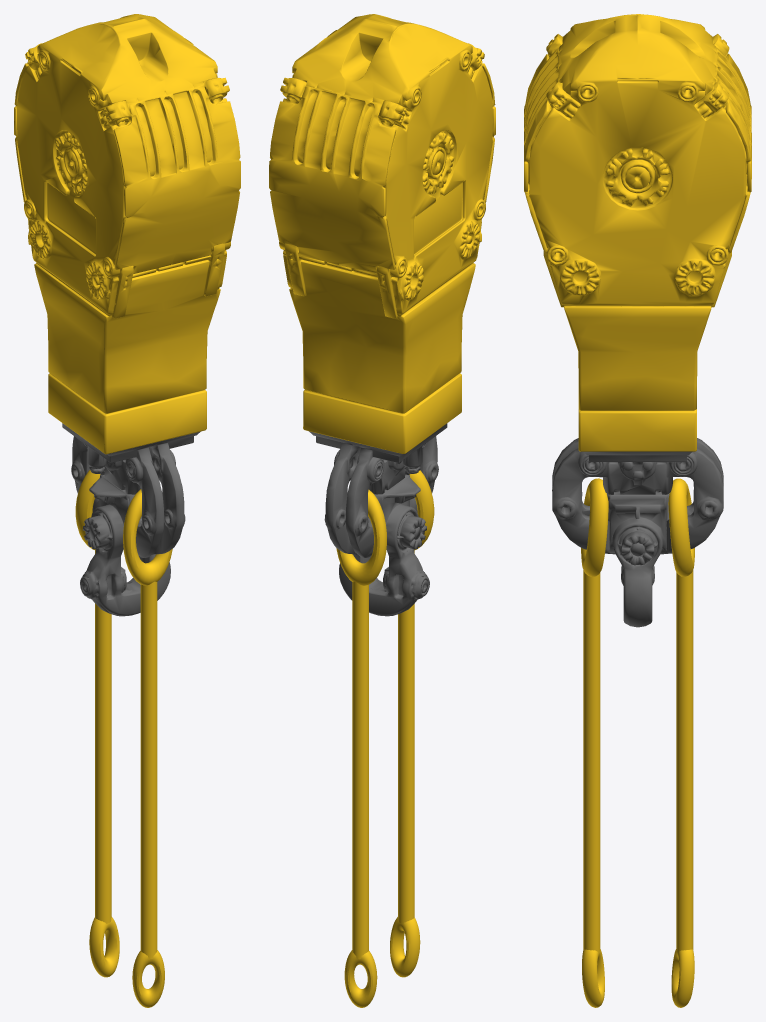
The model's file is Catarina_Links.fbx.
3 renders of one model, left to right at view 1: azimuth 30°, elevation 25°; view 2: azimuth 150°, elevation 25°; view 3: azimuth 270°, elevation 25°, orthographic.
Parts seen in each view (by area): view 1: Corpo_Catarina, Olhais_Catarina, Link_Direito, Link_Esquerdo; view 2: Corpo_Catarina, Olhais_Catarina, Link_Esquerdo, Link_Direito; view 3: Corpo_Catarina, Olhais_Catarina, Link_Direito, Link_Esquerdo.
Part boxes in pixels (<box>): Corpo_Catarina: <box>14,14,240,454</box>; Olhais_Catarina: <box>62,423,200,616</box>; Link_Direito: <box>123,489,172,1007</box>; Link_Esquerdo: <box>75,470,119,977</box>; Corpo_Catarina: <box>269,14,495,453</box>; Olhais_Catarina: <box>309,423,447,616</box>; Link_Esquerdo: <box>336,489,386,1007</box>; Link_Direito: <box>390,470,434,977</box>; Corpo_Catarina: <box>524,14,751,451</box>; Olhais_Catarina: <box>552,438,723,627</box>; Link_Direito: <box>581,478,608,1007</box>; Link_Esquerdo: <box>668,478,694,1007</box>.
Size of the model in its own units: 51.15 by 393 by 82.29.
